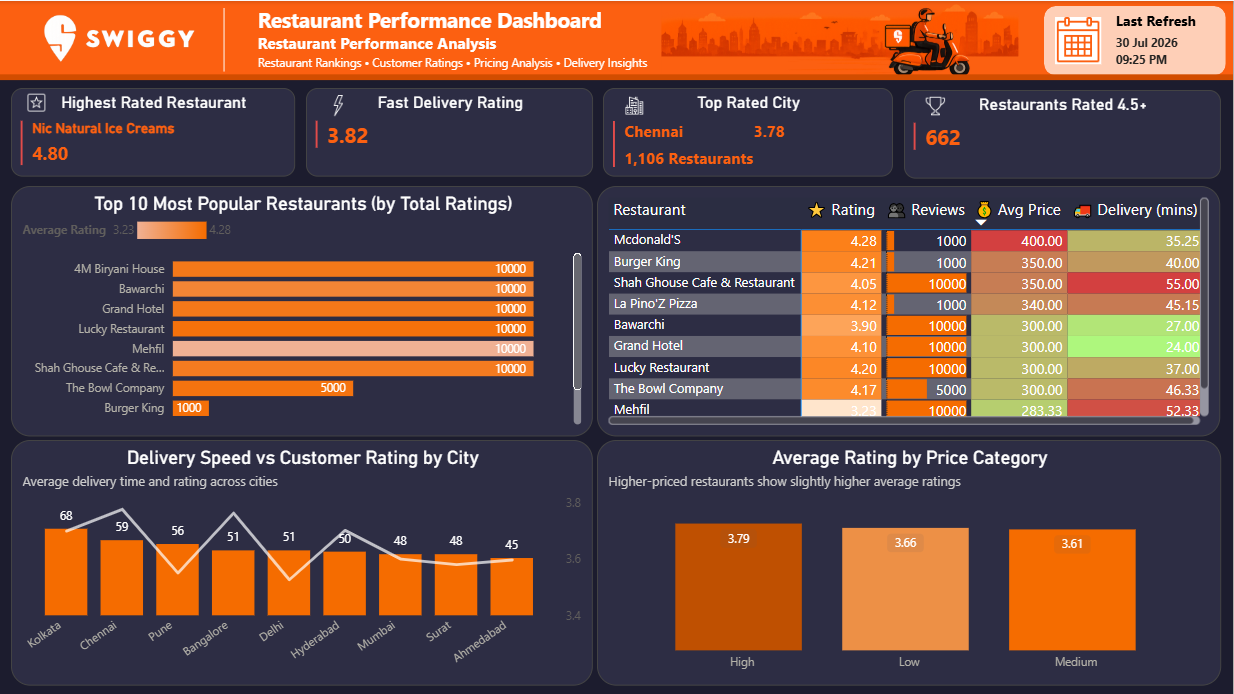

What the dashboard file says about the page in this screenshot:
{"tool":"powerbi","page":{"name":"Restaurant Performance","canvas":[1280,720],"ordinal":1},"visuals":[{"type":"group","id":"g1","title":"Group 1","box":[1083.6,4.9,188.7,72],"z":0,"group":"g4"},{"type":"shape","title":"Last Refresh","box":[1083.6,4.9,188.7,72],"z":0,"group":"g1"},{"type":"shape","box":[177,6.8,102.1,66.1],"z":0},{"type":"multiRowCard","title":"Highest Rated Restaurant ","fields":{"Values":["swiggy.Top Rated Restaurant","swiggy.Top Rated Restaurant Rating"]},"box":[11.4,90.3,294.7,92.4],"z":0,"group":"g5"},{"type":"multiRowCard","title":"Fast Delivery Rating","fields":{"Values":["swiggy.Fast Delivery Rating"]},"box":[317.3,90.3,297.6,92.4],"z":0,"group":"g7"},{"type":"multiRowCard","title":"Top Rated City","fields":{"Values":["swiggy.Top Rated City","swiggy.Top City Rating","swiggy.Top Rated City Restaurant Label"]},"box":[626.3,90.3,300.5,92.4],"z":0,"group":"g9"},{"type":"group","id":"g2","title":"Group 6","box":[938.5,92.4,328.8,92.4],"z":0,"group":"g11"},{"type":"multiRowCard","title":"Restaurants Rated 4.5+","fields":{"Values":["swiggy.Restaurants Rated 4.5+"]},"box":[938.5,92.4,328.8,92.4],"z":0,"group":"g10"},{"type":"shape","box":[0,0,1280,79.8],"z":1000},{"type":"image","box":[1068,16.6,102.1,48.6],"z":1000,"group":"g4"},{"type":"image","box":[22.9,94.2,30.4,22.4],"z":1000,"group":"g5"},{"type":"image","box":[955,97.3,32,22.4],"z":1000,"group":"g11"},{"type":"image","box":[437.7,0,842.3,79.8],"z":2000},{"type":"textbox","box":[1153.6,4.9,96.3,32.1],"z":2000,"group":"g1"},{"type":"group","id":"g3","title":"Group 3","box":[2.7,0,683,79.8],"z":3000},{"type":"textbox","box":[1153.6,29.2,116.7,47.7],"z":3000,"group":"g1"},{"type":"group","id":"g4","title":"Group 2","box":[1068,4.9,204.3,72],"z":4000},{"type":"shape","box":[0,59.3,1280,39.9],"z":5000},{"type":"group","id":"g5","title":"Group 4","box":[11.4,90.3,294.8,92.4],"z":6000},{"type":"group","id":"g6","title":"Group 5","box":[317.3,90.3,297.6,92.4],"z":7000,"group":"g16"},{"type":"group","id":"g7","title":"Group 4","box":[317.3,90.3,297.6,92.4],"z":7000,"group":"g6"},{"type":"group","id":"g8","title":"Group 6","box":[626.3,90.3,301.1,92.4],"z":7000},{"type":"group","id":"g9","title":"Group 4","box":[626.3,90.3,300.5,92.4],"z":7000,"group":"g12"},{"type":"group","id":"g10","title":"Group 4","box":[938.5,92.4,328.8,92.4],"z":7000,"group":"g13"},{"type":"group","id":"g11","title":"Group 7","box":[938.5,92.4,329.1,92.4],"z":8000},{"type":"clusteredBarChart","title":"Top 10 Most Popular Restaurants (by Total Ratings)","fields":{"Category":["swiggy.Restaurant"],"Y":["swiggy.Restaurant Reviews"]},"box":[11.4,192.1,604.2,259.5],"z":9000},{"type":"group","id":"g12","title":"Group 5","box":[626.3,90.3,300.5,92.4],"z":9001,"group":"g8"},{"type":"group","id":"g13","title":"Group 5","box":[938.5,92.4,328.8,92.4],"z":9001,"group":"g2"},{"type":"pivotTable","fields":{"Rows":["swiggy.Restaurant"],"Values":["Avg(swiggy.Avg ratings)","swiggy.Restaurant Reviews","Avg(swiggy.Price)","Avg(swiggy.Delivery time)"]},"box":[619.8,192.1,646.7,259.5],"z":10000},{"type":"lineClusteredColumnComboChart","title":"Delivery Speed vs Customer Rating by City","fields":{"Category":["swiggy.City"],"Y":["swiggy.Average Delivery Time"],"Y2":["Avg(swiggy.Avg ratings)"]},"box":[11.7,456.2,604,255],"z":11000},{"type":"clusteredColumnChart","title":"Average Rating by Price Category","fields":{"Category":["swiggy.Price Category"],"Y":["swiggy.Average Rating"]},"box":[619.8,455.7,647.8,255.4],"z":12000},{"type":"group","id":"g14","title":"Group 8","box":[317.3,90.3,297.6,92.4],"z":13000,"group":"g15"},{"type":"group","id":"g15","title":"Group 9","box":[317.3,90.3,297.9,92.4],"z":13001},{"type":"group","id":"g16","title":"Group 10","box":[317.3,90.3,297.6,92.4],"z":13002,"group":"g14"},{"type":"image","box":[334.8,97.1,32.1,22.4],"z":13002,"group":"g16"},{"type":"image","box":[2.7,0,243.2,79.8],"z":15000,"group":"g3"},{"type":"textbox","box":[262.2,0,423.5,79.8],"z":16000,"group":"g3"},{"type":"shape","box":[180,6.8,103.9,66.1],"z":17009,"group":"g3"},{"type":"image","box":[642.9,97.1,32,22.4],"z":19000,"group":"g8"}]}

Visuals, with their boxes in screenshot pixels (x1, y1, x2, y2), scaled from the page's 1280x720 canvas onto the 1234x694 screenshot:
"Group 1" group: 1045,5,1227,74
"Last Refresh" shape: 1045,5,1227,74
shape: 171,7,269,70
"Highest Rated Restaurant " multiRowCard: 11,87,295,176
"Fast Delivery Rating" multiRowCard: 306,87,593,176
"Top Rated City" multiRowCard: 604,87,893,176
"Group 6" group: 905,89,1222,178
"Restaurants Rated 4.5+" multiRowCard: 905,89,1222,178
shape: 0,0,1233,77
image: 1030,16,1128,63
image: 22,91,51,112
image: 921,94,952,115
image: 422,0,1233,77
textbox: 1112,5,1205,36
"Group 3" group: 3,0,661,77
textbox: 1112,28,1225,74
"Group 2" group: 1030,5,1227,74
shape: 0,57,1233,96
"Group 4" group: 11,87,295,176
"Group 5" group: 306,87,593,176
"Group 4" group: 306,87,593,176
"Group 6" group: 604,87,894,176
"Group 4" group: 604,87,893,176
"Group 4" group: 905,89,1222,178
"Group 7" group: 905,89,1222,178
"Top 10 Most Popular Restaurants (by Total Ratings)" clusteredBarChart: 11,185,593,435
"Group 5" group: 604,87,893,176
"Group 5" group: 905,89,1222,178
pivotTable - swiggy.Restaurant x Avg(swiggy.Avg ratings): 598,185,1221,435
"Delivery Speed vs Customer Rating by City" lineClusteredColumnComboChart: 11,440,594,686
"Average Rating by Price Category" clusteredColumnChart: 598,439,1222,685
"Group 8" group: 306,87,593,176
"Group 9" group: 306,87,593,176
"Group 10" group: 306,87,593,176
image: 323,94,354,115
image: 3,0,237,77
textbox: 253,0,661,77
shape: 174,7,274,70
image: 620,94,651,115
